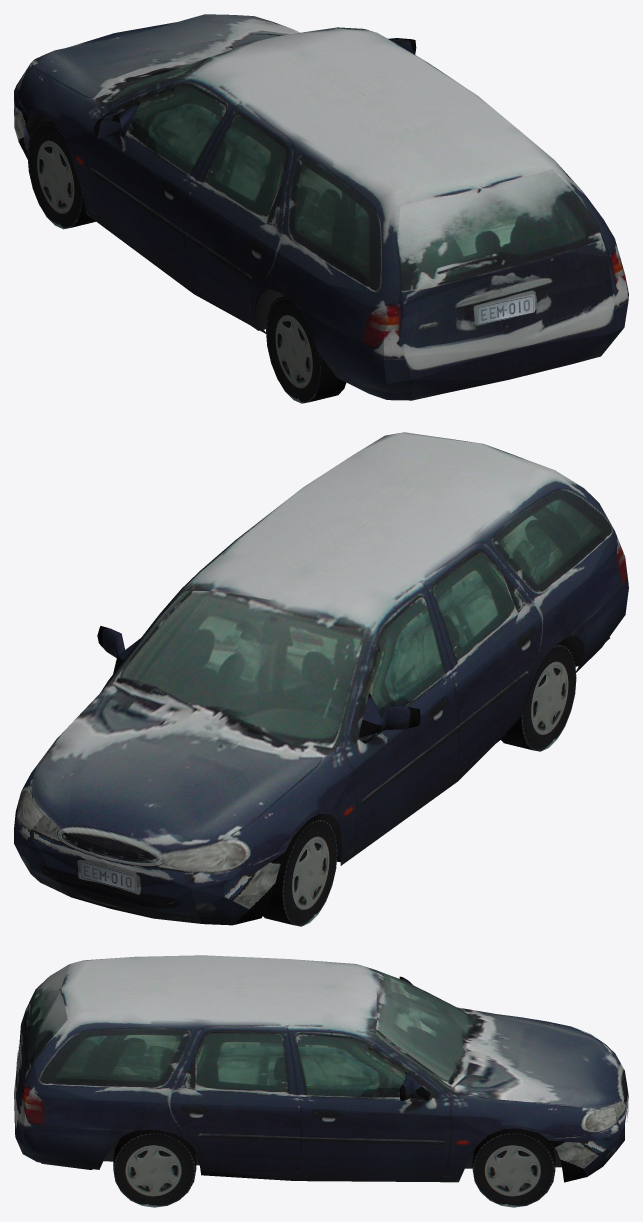
Rendered from snowy_car.glb.
The picture shows the model from 3 angles, top to bottom: view 1: azimuth 30°, elevation 25°; view 2: azimuth 150°, elevation 25°; view 3: azimuth 270°, elevation 25°; orthographic projection. The views are drawn at different scales.
Parts seen in each view (by area): view 1: Object_7, Object_9, Object_8, Object_11, Object_4, Object_5, Object_10; view 2: Object_7, Object_8, Object_12, Object_11, Object_3, Object_4, Object_2, Object_10, Object_5, Object_6; view 3: Object_7, Object_8, Object_11, Object_9, Object_3, Object_2, Object_10, Object_4, Object_12.
Boxes of the visible parts, left/top/right/bottom form: Object_7: left=14, top=14, right=614, bottom=293; Object_9: left=384, top=170, right=628, bottom=400; Object_8: left=65, top=132, right=628, bottom=400; Object_11: left=27, top=122, right=320, bottom=403; Object_4: left=25, top=38, right=416, bottom=397; Object_5: left=477, top=294, right=535, bottom=324; Object_10: left=42, top=120, right=346, bottom=401; Object_7: left=14, top=432, right=614, bottom=880; Object_8: left=330, top=531, right=628, bottom=865; Object_12: left=14, top=828, right=249, bottom=925; Object_11: left=282, top=644, right=576, bottom=926; Object_3: left=64, top=591, right=208, bottom=730; Object_4: left=75, top=626, right=609, bottom=909; Object_2: left=223, top=852, right=285, bottom=924; Object_10: left=263, top=644, right=562, bottom=924; Object_5: left=80, top=861, right=136, bottom=891; Object_6: left=27, top=815, right=68, bottom=848; Object_7: left=33, top=955, right=626, bottom=1142; Object_8: left=23, top=1061, right=487, bottom=1182; Object_11: left=113, top=1132, right=555, bottom=1207; Object_9: left=14, top=964, right=69, bottom=1153; Object_3: left=375, top=1020, right=518, bottom=1101; Object_2: left=549, top=1137, right=606, bottom=1182; Object_10: left=113, top=1128, right=555, bottom=1169; Object_4: left=38, top=976, right=561, bottom=1169; Object_12: left=583, top=1075, right=628, bottom=1176.
Bounding box in the file's own units: 1.13 × 0.7907 × 2.5.
Materials: 12 (10 with a texture image).
